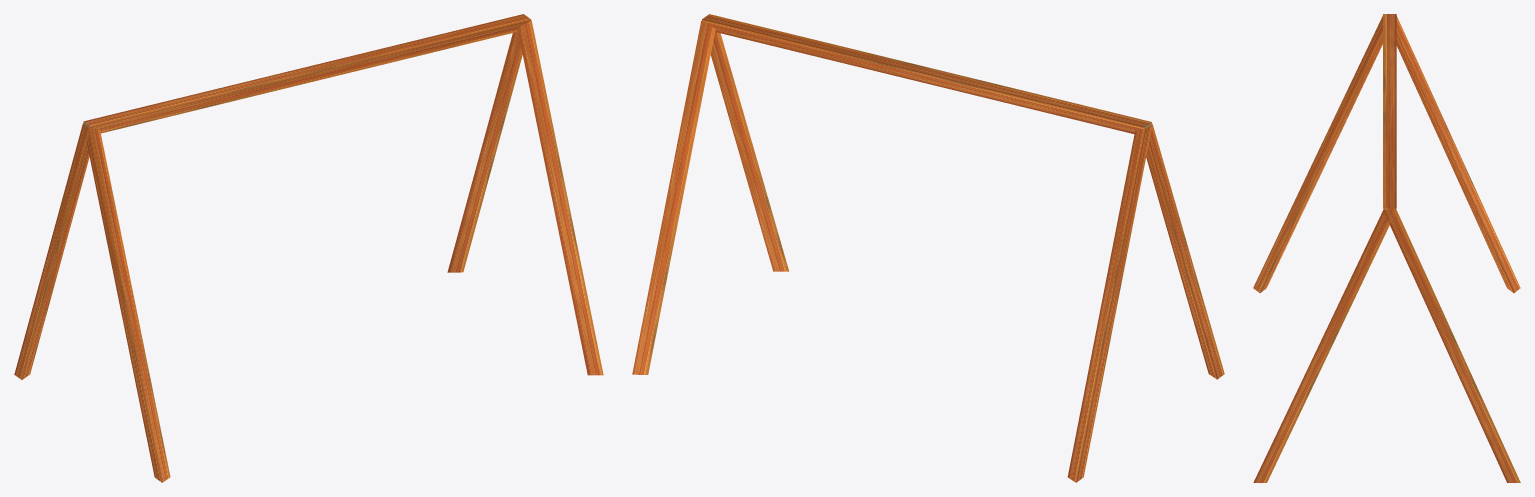
The model's file is SwingSet.glb.
3 renders of one model, left to right at view 1: azimuth 30°, elevation 25°; view 2: azimuth 150°, elevation 25°; view 3: azimuth 270°, elevation 25°, orthographic. The views are drawn at different scales.
Visible parts, largest first — view 1: SwingSet; view 2: SwingSet; view 3: SwingSet.
Part boxes in pixels (box(x1,y1,x2,y2)): SwingSet: box(14, 14, 603, 482); SwingSet: box(632, 14, 1224, 482); SwingSet: box(1253, 14, 1520, 482).
Size of the model in its own units: 1194 by 784 by 694.
1 material, 1 textured.
